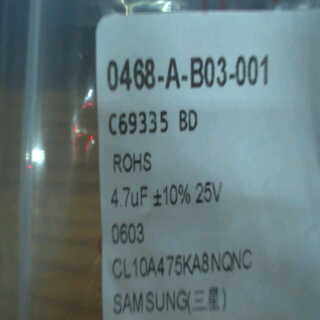4.7uF: (107, 182, 150, 209)
